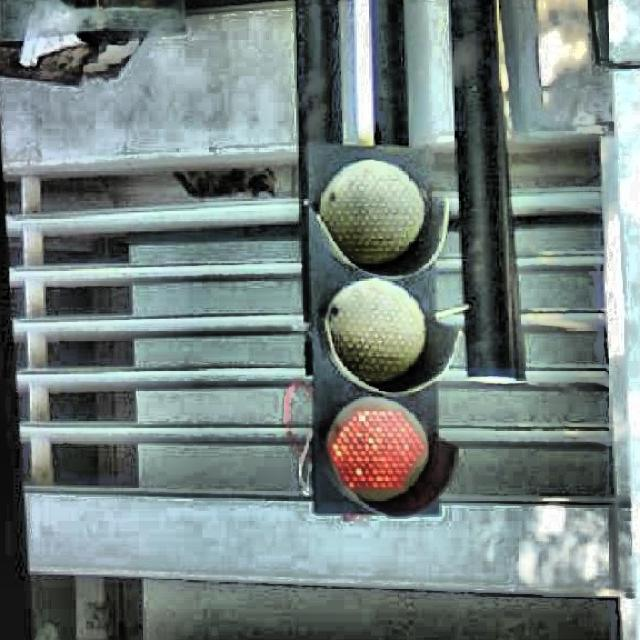red: (301, 143, 447, 524)
